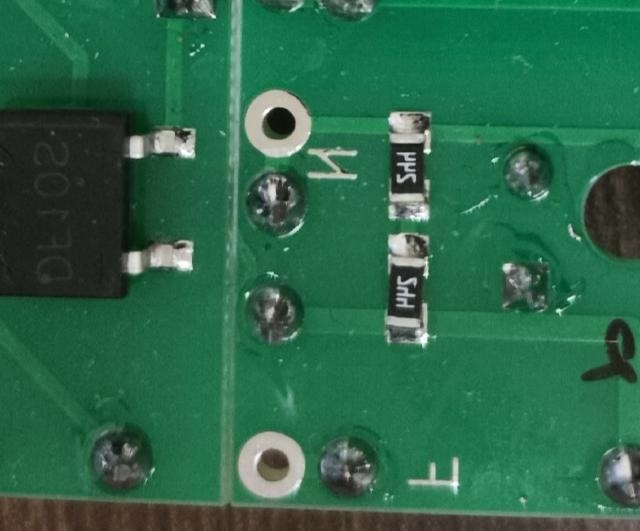chip-resistor: (384, 106, 433, 222), (381, 231, 430, 347)
ic: (0, 105, 197, 299)
